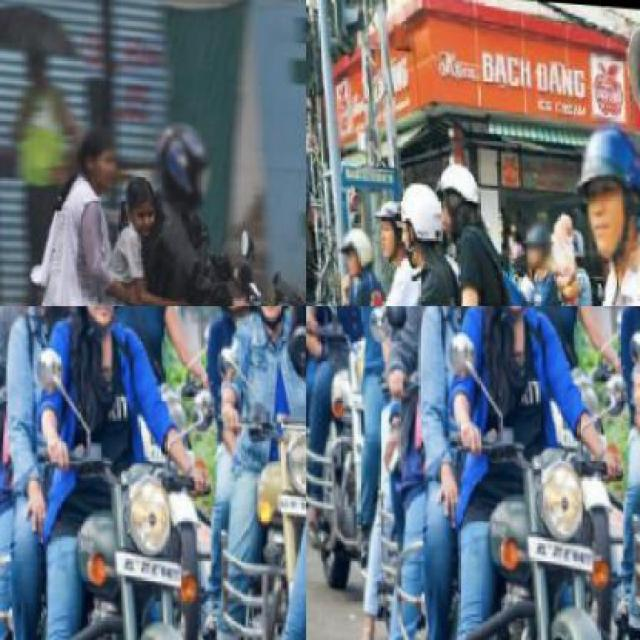With Helmet: (568, 108, 638, 269), (385, 166, 447, 289), (150, 107, 213, 213), (432, 150, 482, 225), (372, 197, 406, 263), (333, 224, 373, 274), (522, 218, 552, 268)
Without Helmet: (72, 120, 117, 178), (119, 170, 156, 222)
